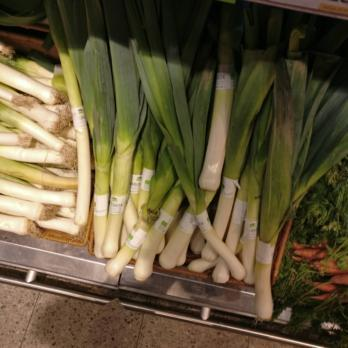Leek Leaves: (72, 0, 288, 270), (4, 45, 72, 230)
